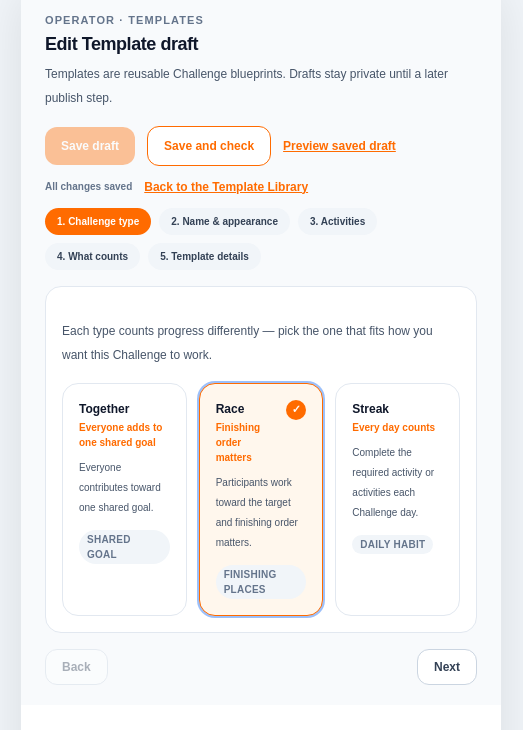
Test: conflict reconciliation › identifies added, removed and modified Activities and takes only explicitly chosen sides
Click the button "4. What counts" at (93, 256), box top-left (45, 242), bottom-right (140, 270)
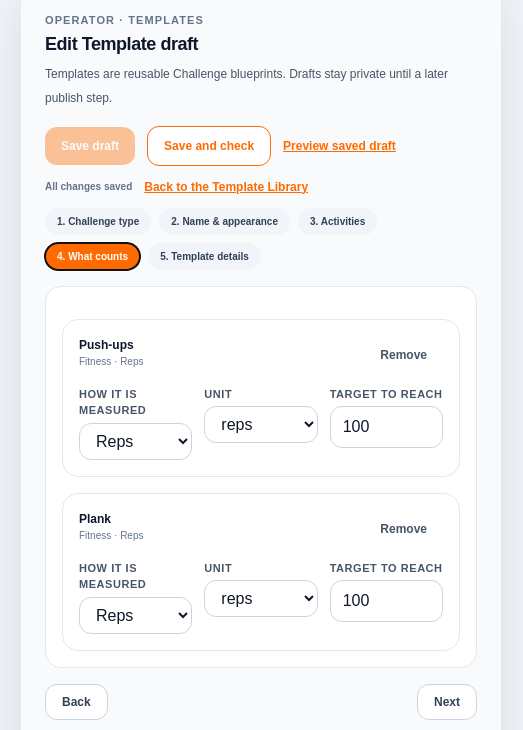
Replace the text in the number field labelled "Target to reach" below "Push-ups" with "150" at (386, 427), box top-left (330, 406), bottom-right (443, 448)
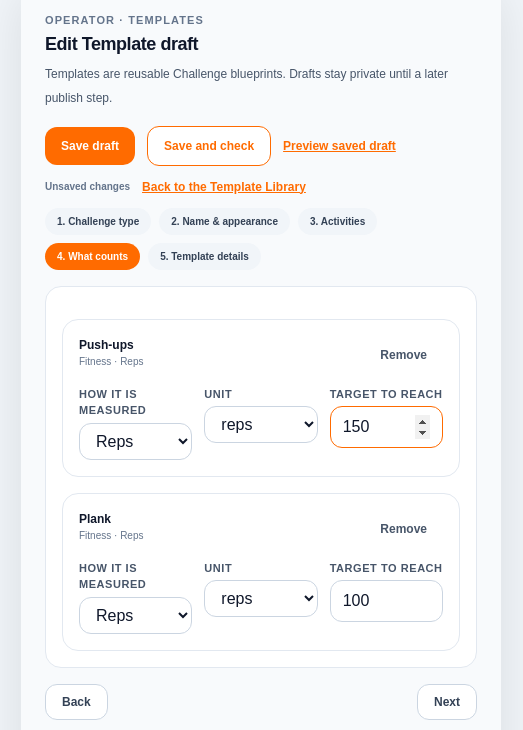
Click the button "Save draft" at (90, 146), box top-left (45, 126), bottom-right (135, 164)
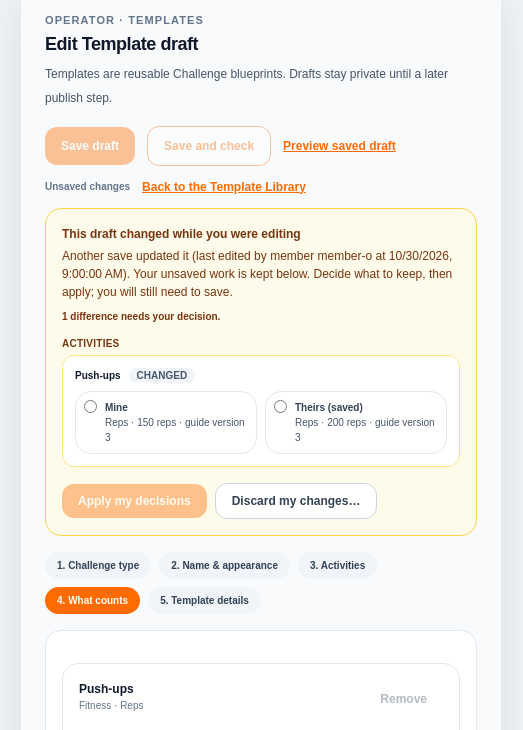
Now the text "Changed" is shown, box top-left (129, 368), bottom-right (195, 382)
Now the text "Reps · 150 reps · guide version 3" is shown, box top-left (105, 414), bottom-right (248, 444)
Now the text "Reps · 200 reps · guide version 3" is shown, box top-left (295, 414), bottom-right (438, 444)
Click the radio button with aria-label "Push-ups: keep theirs" at (280, 406), box top-left (274, 400), bottom-right (287, 412)
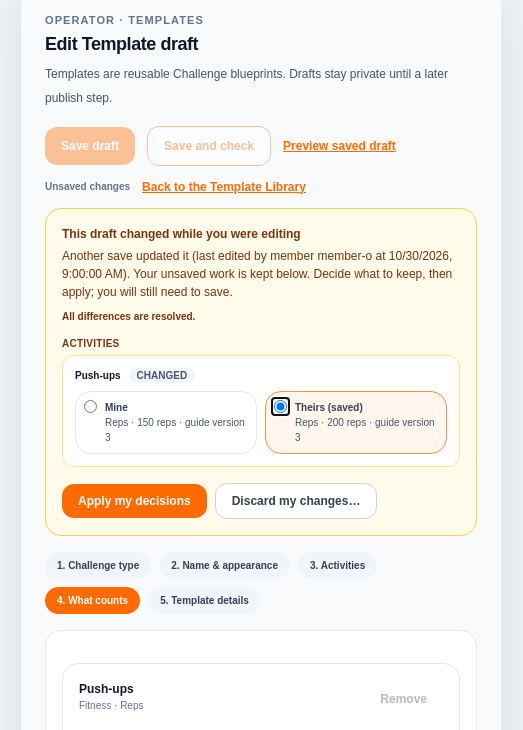
Click the button "Apply my decisions" at (134, 500), box top-left (62, 484), bottom-right (207, 518)
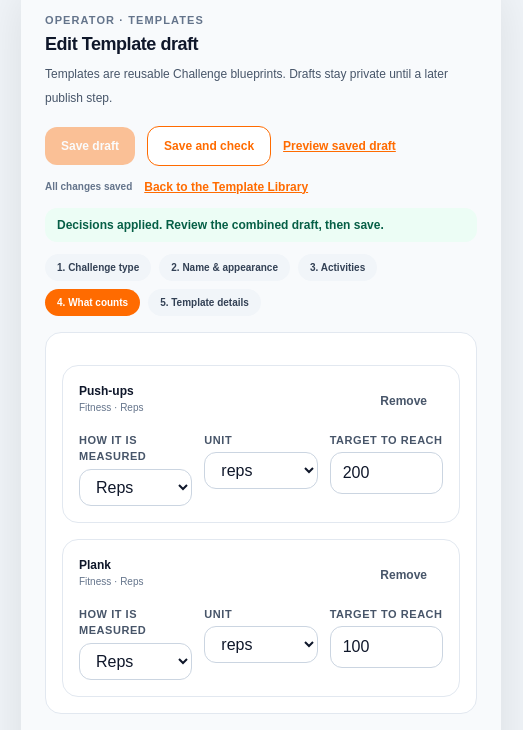
Now the button "Save draft" is disabled, box top-left (45, 126), bottom-right (135, 164)
Now the number field labelled "Target to reach" below "Push-ups" holds "200", box top-left (330, 452), bottom-right (443, 494)
